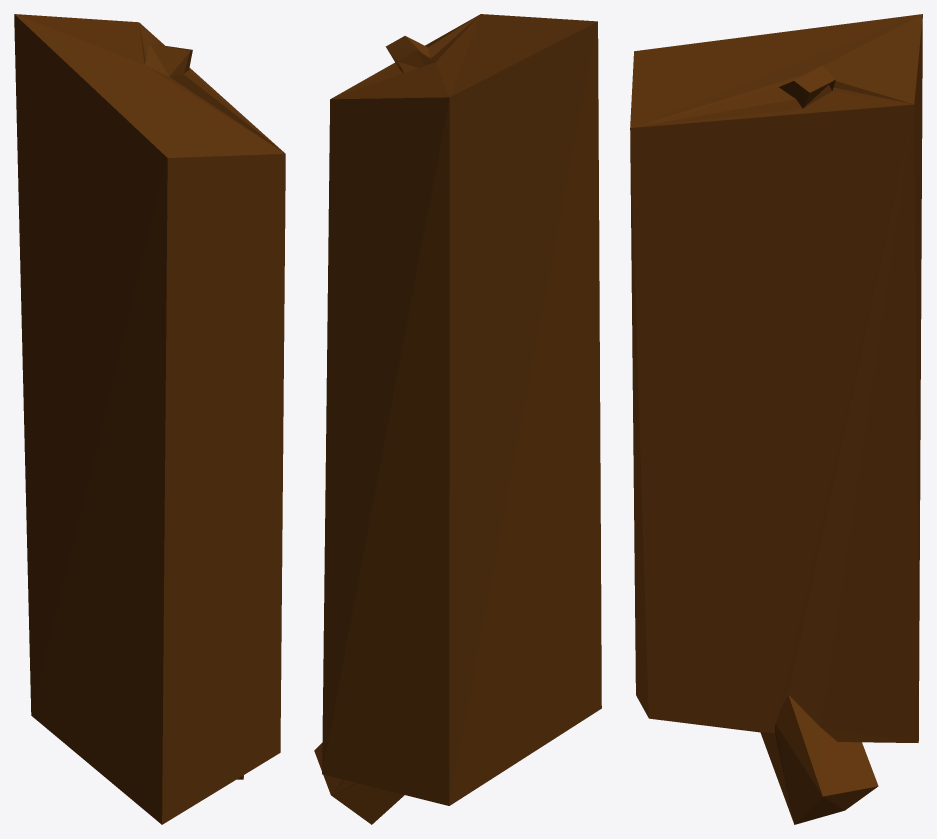
3 renders of one model, left to right at view 1: azimuth 30°, elevation 25°; view 2: azimuth 150°, elevation 25°; view 3: azimuth 270°, elevation 25°, orthographic. The views are drawn at different scales.
Visible parts, largest first — view 1: 335_Cube.1369; view 2: 335_Cube.1369; view 3: 335_Cube.1369.
Boxes of the visible parts, x1,y1,x2,y2 form: 335_Cube.1369: (14, 14, 285, 824); 335_Cube.1369: (314, 14, 601, 824); 335_Cube.1369: (630, 14, 922, 824).
Size of the model in its own units: 3.45 by 13.75 by 4.92.
